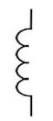inductor: (11, 16, 42, 100)
